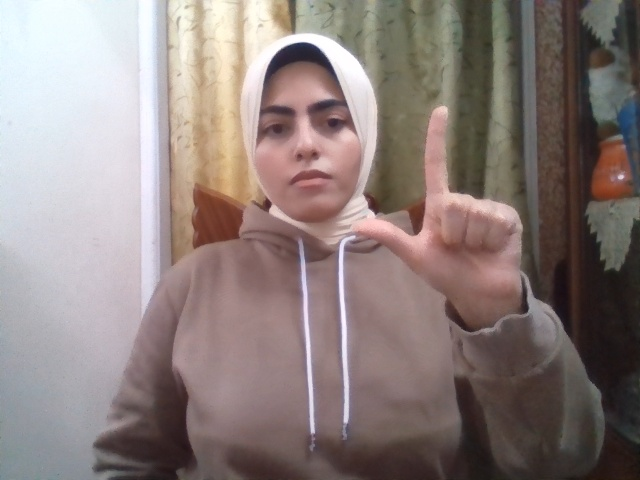L: (350, 105, 523, 307)
